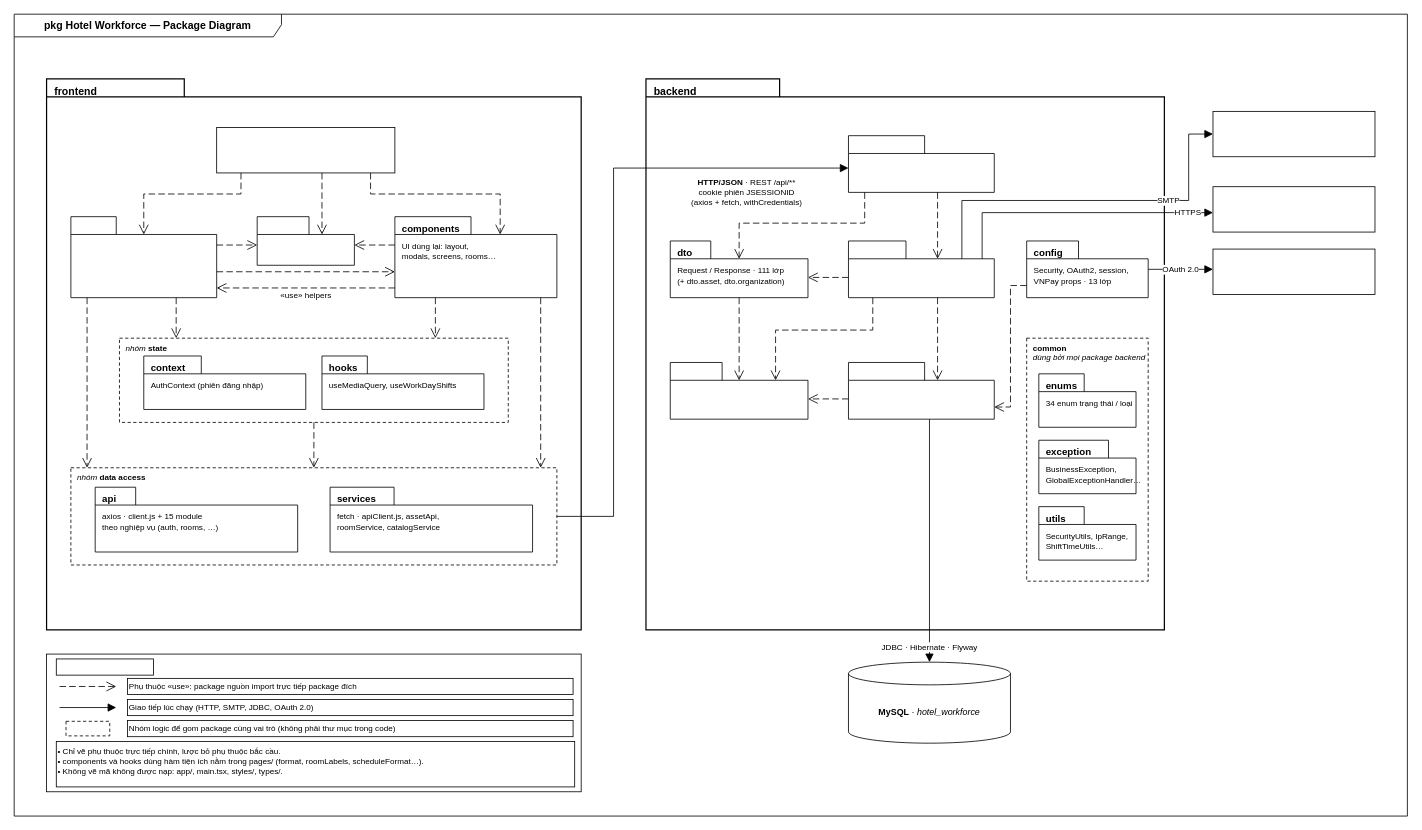
The diagram is 1422 pixels wide and 830 high, and some of its shapes have lost their labels. Here are the shapes that lost their labels. From the top down, the centre of each, then its label:
At point 305,150: "main.jsx → App.jsx".
At point 1293,134: "«external system» Gmail SMTP".
At point 921,163: "controller REST endpoints /api/** · 24 lớp".
At point 1293,209: "«external system» VNPay".
At point 143,257: "pages Màn hình theo route (rooms/, scheduling/, Admin_platform/)".
At point 305,240: "shared permissions.js homePath.js".
At point 921,269: "service Nghiệp vụ, @Transactional, job định kỳ · 51 lớp".
At point 1293,271: "«external system» Google OAuth 2.0".
At point 738,390: "entity JPA entity ↔ bảng · 32 lớp".
At point 921,390: "repository Spring Data JPA · 33 lớp".
At point 104,666: "Chú thích".
